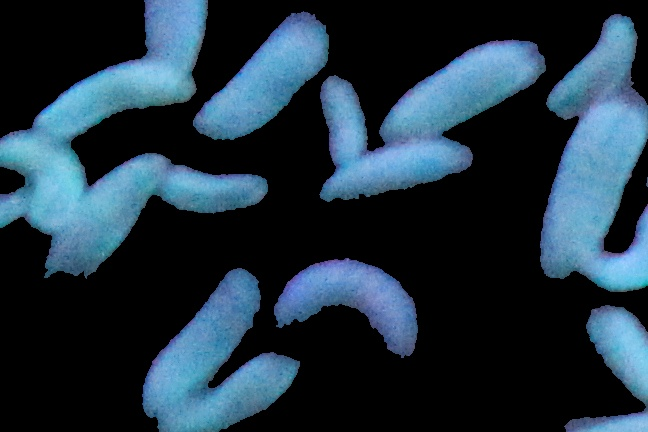larvae: (538, 95, 645, 276), (380, 31, 540, 138), (195, 8, 325, 137), (276, 248, 411, 365), (146, 272, 258, 406), (60, 153, 162, 282), (20, 64, 198, 134), (312, 139, 467, 206), (143, 363, 298, 424), (1, 133, 84, 229), (577, 301, 648, 409), (557, 10, 638, 103), (157, 160, 268, 216), (582, 209, 648, 299), (137, 1, 210, 73), (327, 66, 363, 161)
